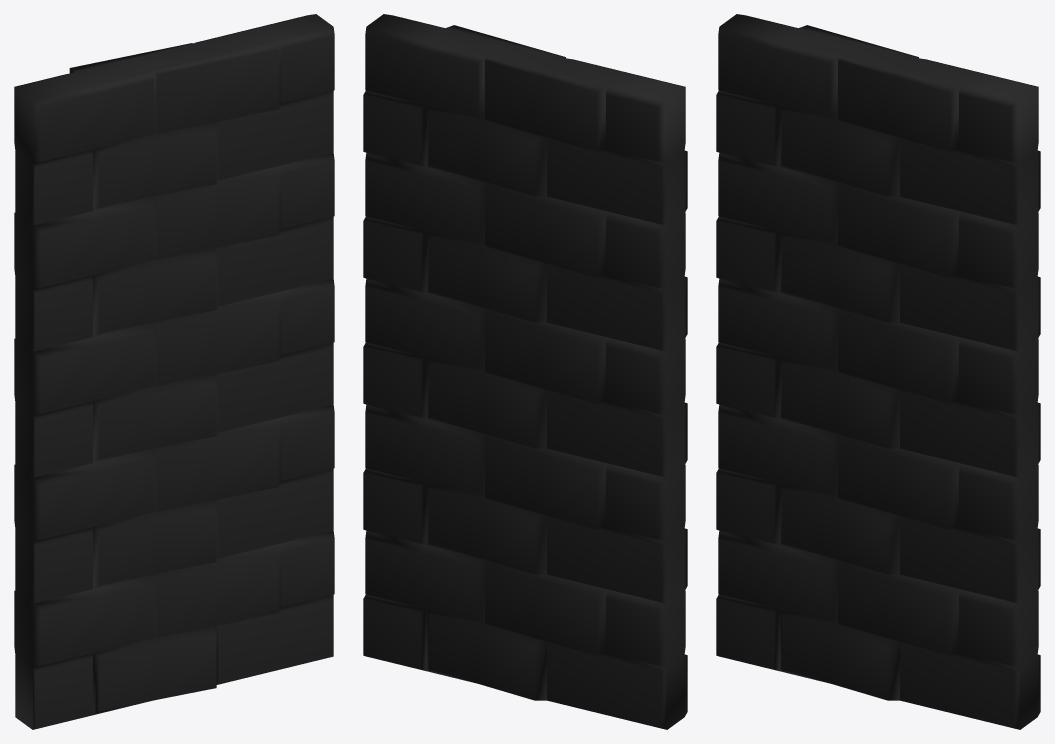
The model's file is BrickWall.006.glb.
3 views of the same model, side by side, from view 1: azimuth 30°, elevation 25°; view 2: azimuth 150°, elevation 25°; view 3: azimuth 330°, elevation 25° (orthographic).
Visible parts, largest first — view 1: BrickWall.006; view 2: BrickWall.006; view 3: BrickWall.006.
Boxes of the visible parts, left/top/right/bottom form: BrickWall.006: left=14, top=14, right=334, bottom=729; BrickWall.006: left=363, top=14, right=687, bottom=729; BrickWall.006: left=716, top=14, right=1040, bottom=729.
Size of what is drawn, in the model's own units: 1.99 by 3.98 by 0.3841.
1 material, 1 textured.
